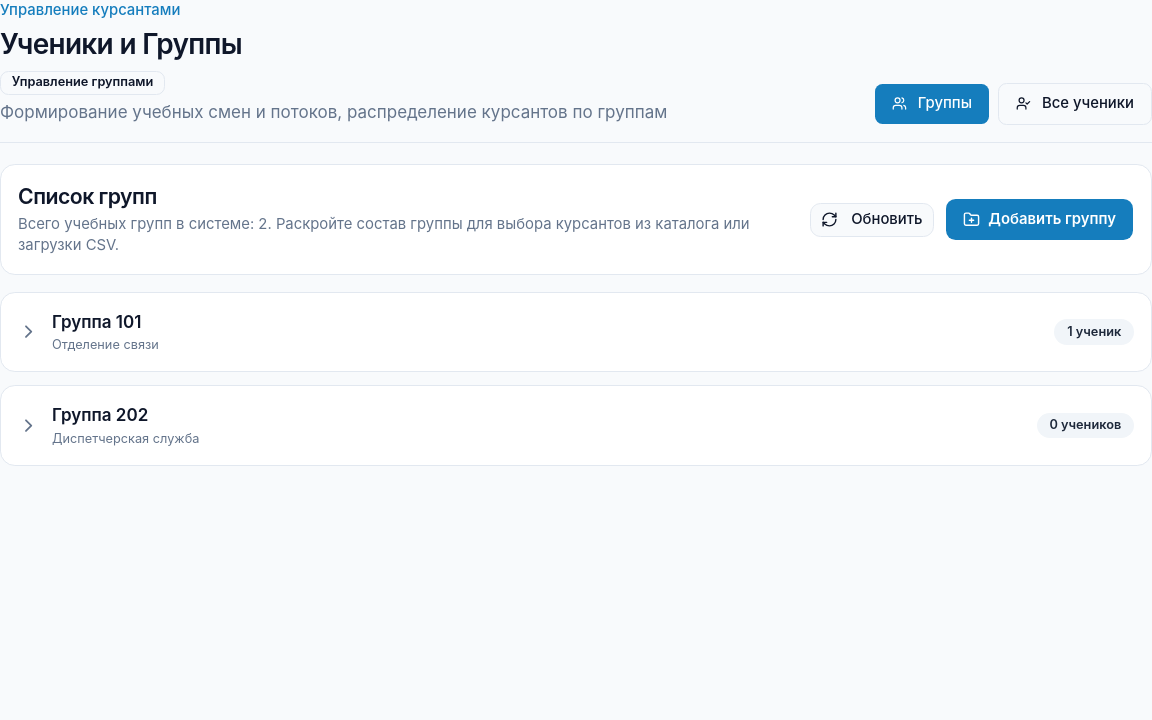
Test: 27.1 / ТЗ 29: Рефакторинг управления группами и учениками › should allow creating a new group without profile via modal
The width and height of the screenshot is (1152, 720).
expect the text "Группа 101" is shown: met, box [52,310,141,335]
# Open creation modal
Click the button "Добавить группу".
click(1039, 220)  # box [945,198,1134,241]
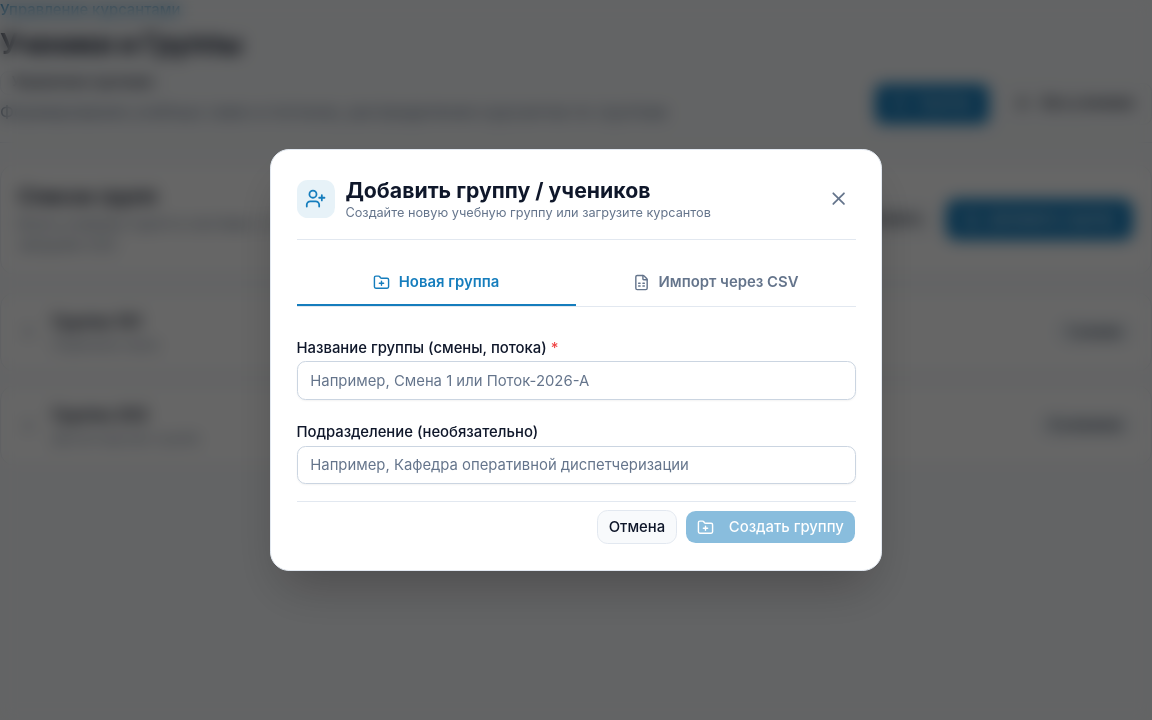
# Fill in form without profile
Type "Тестовая Группа 303" into the field labelled "Название группы (смены, потока) *".
click(576, 381); type("Тестовая Группа 303")  # box [296,362,856,400]
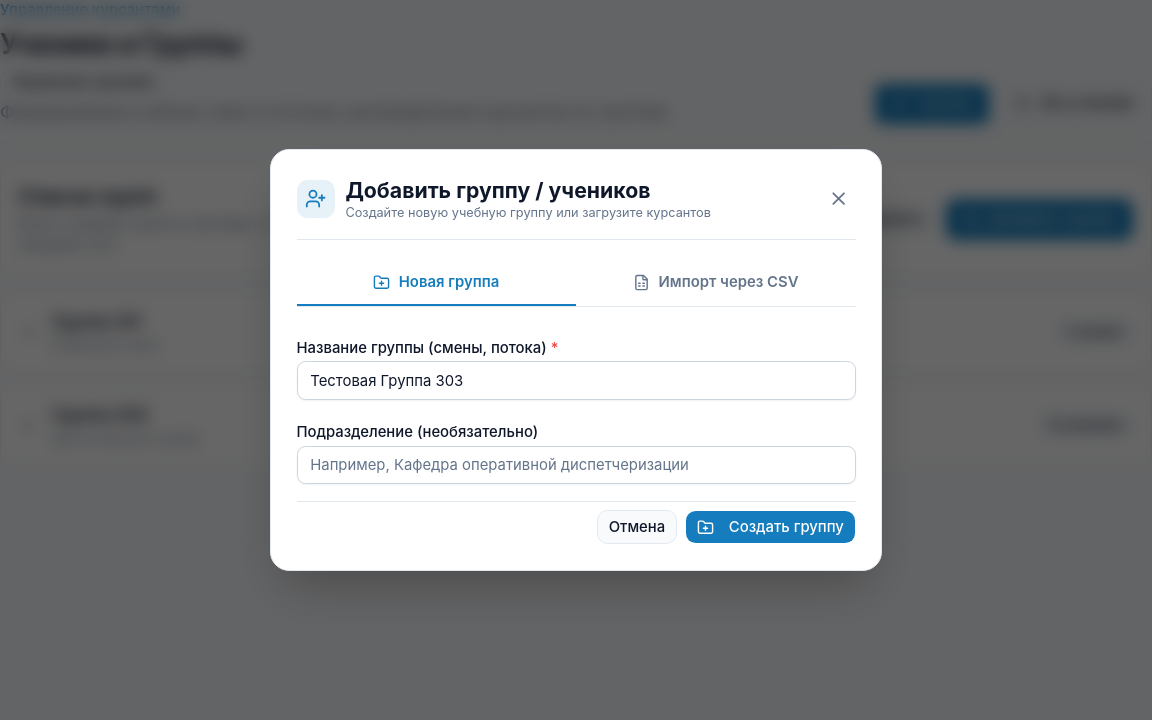
Click the button "Создать группу".
click(770, 527)  # box [685,510,856,544]
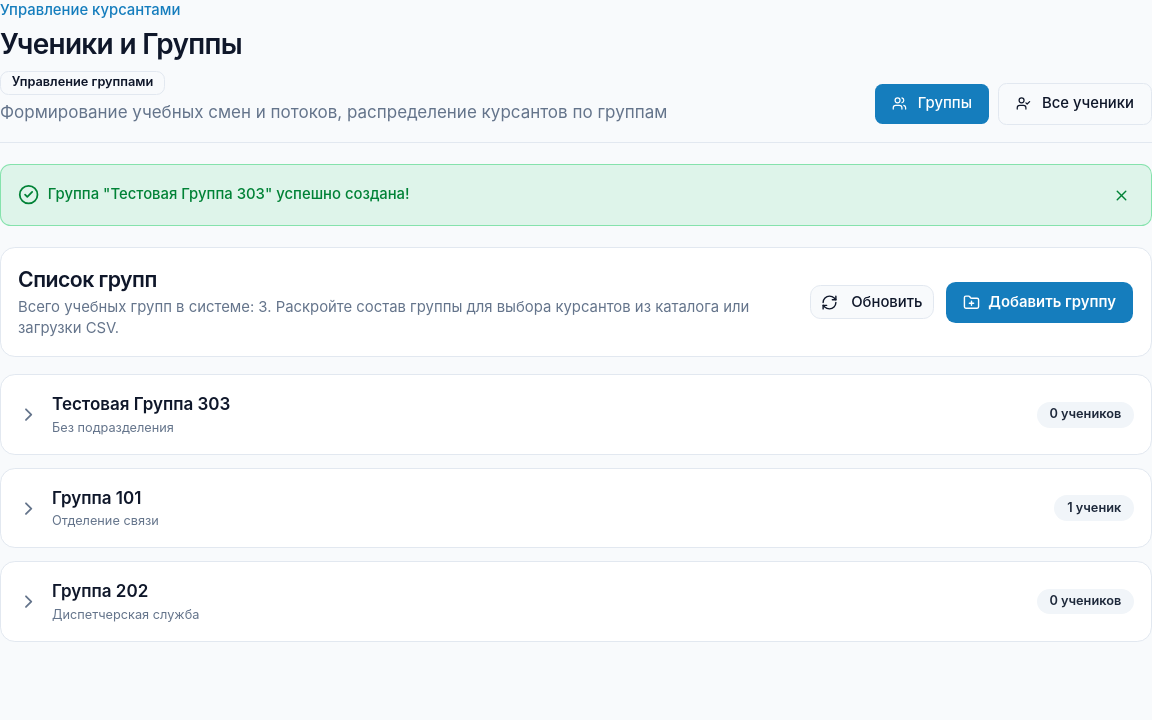
expect the text "Группа \"Тестовая Группа 303\" успешно создана!" is shown: met, box [48,184,410,206]
expect the text "Тестовая Группа 303" is shown: met, box [52,392,230,418]
